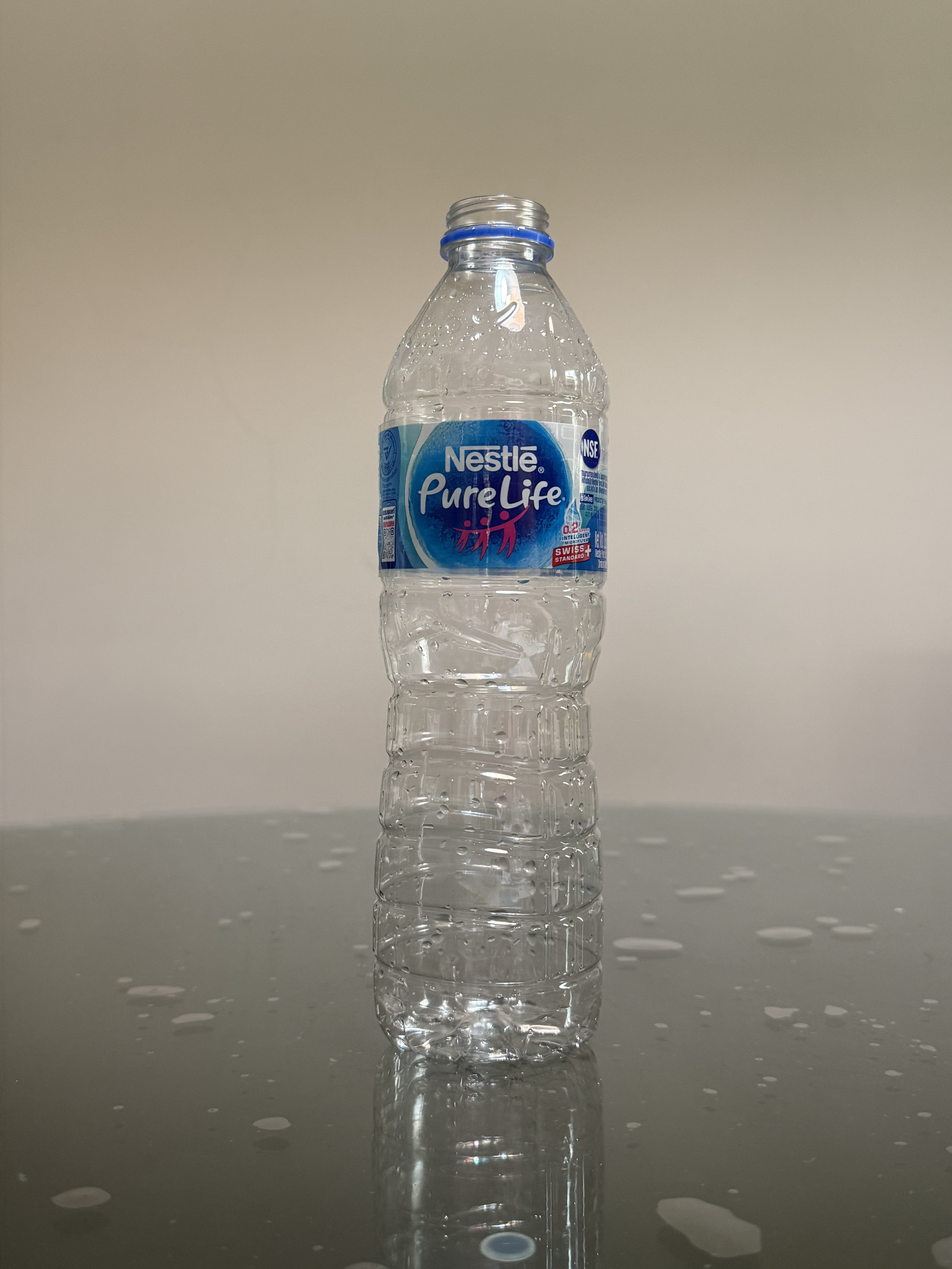no_cap: (438, 193, 556, 256)
